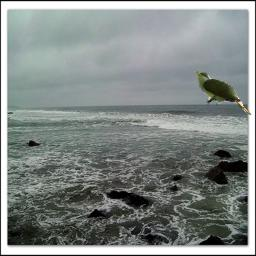Cuckoo: (194, 71, 252, 115)
